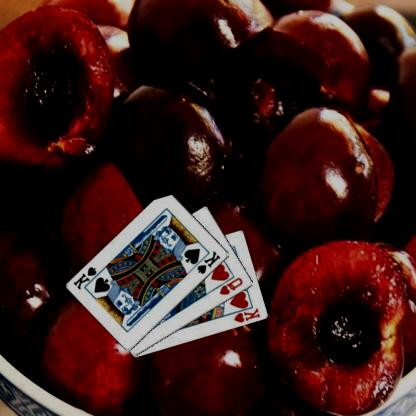KH: (233, 306, 263, 324)
KS: (73, 264, 105, 291), (196, 248, 224, 276)
QH: (219, 275, 246, 296)
